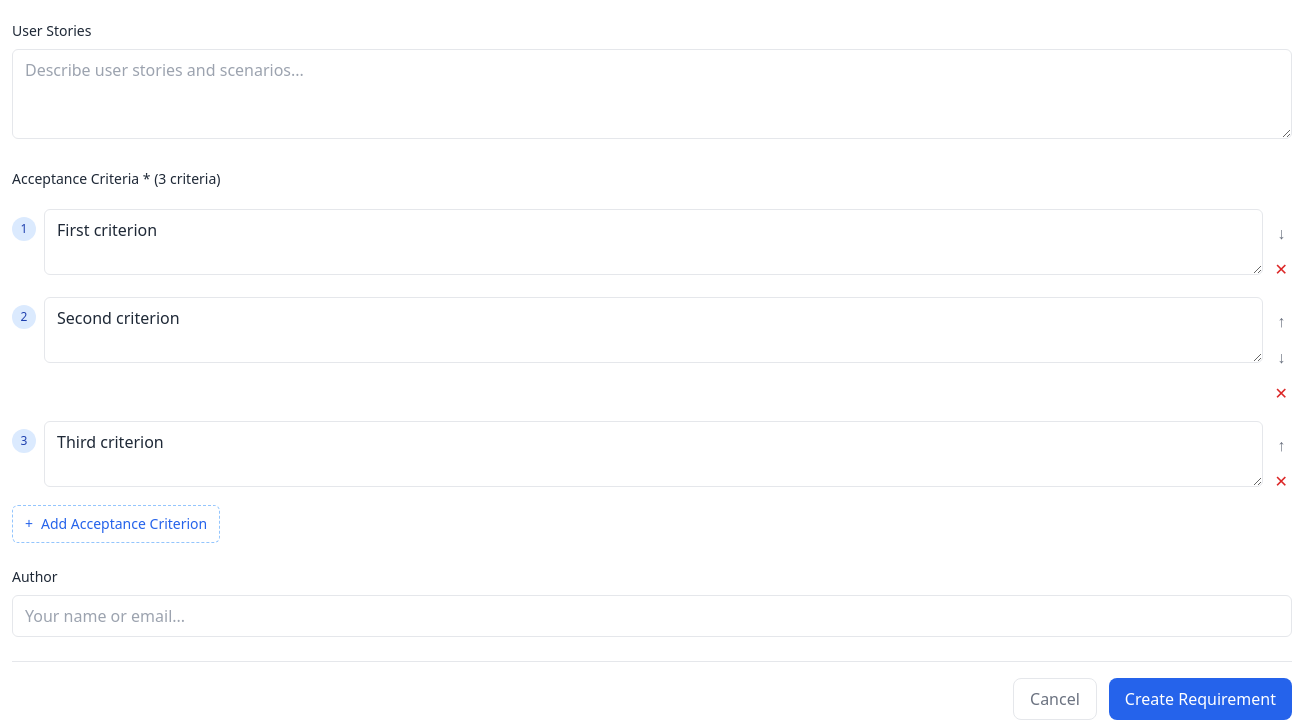
Test: RequirementForm - Acceptance Criteria Management › Removing Criteria › should remove criterion with remove button
(page scrolled)
# Remove the second criterion
Click the 2nd button titled "Remove acceptance criterion" at (1281, 393), box [1271,377,1292,409]
(page scrolled)
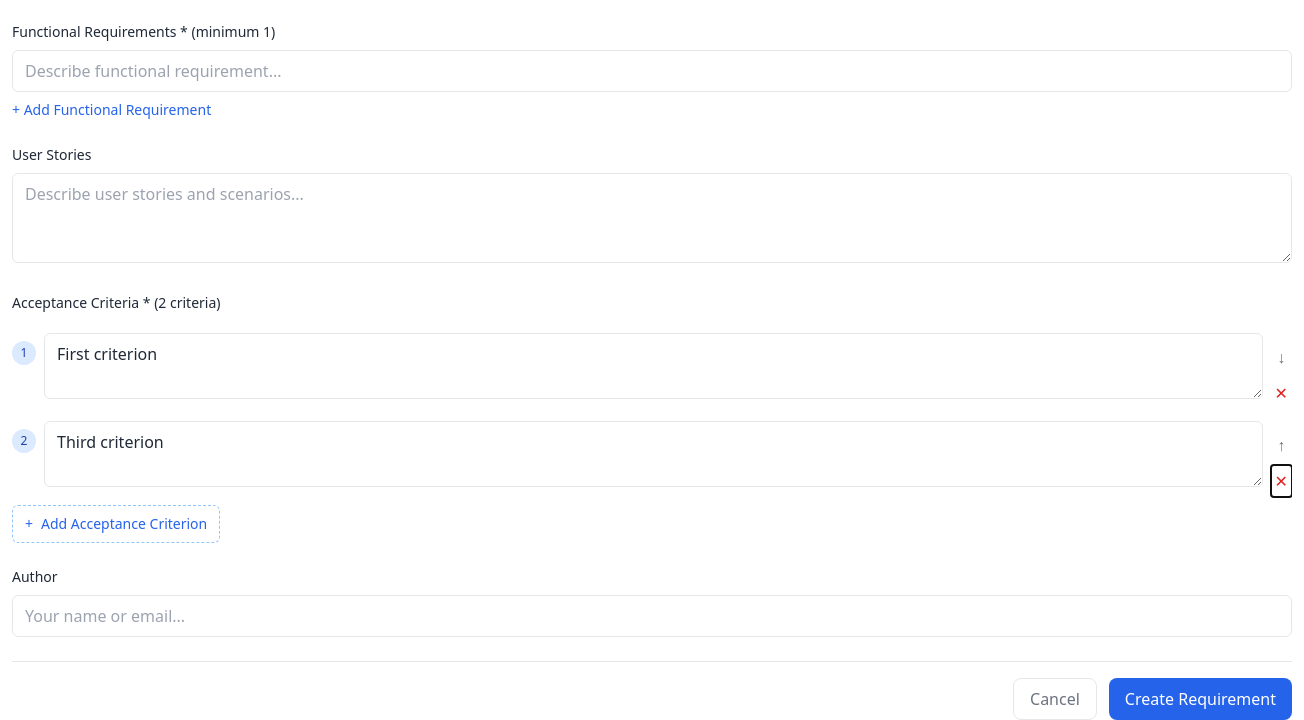
Expected: the 1st text box with placeholder "Given [context], when [action], then [outcome]..." holds "First criterion", [44,333,1263,399]
Result: the text "Acceptance Criteria * (2 criteria)" is shown at [12,293,220,313]
Result: the number of text boxes with placeholder "Given [context], when [action], then [outcome]..." is 2 at [44,333,1263,399]; [44,421,1263,487]
